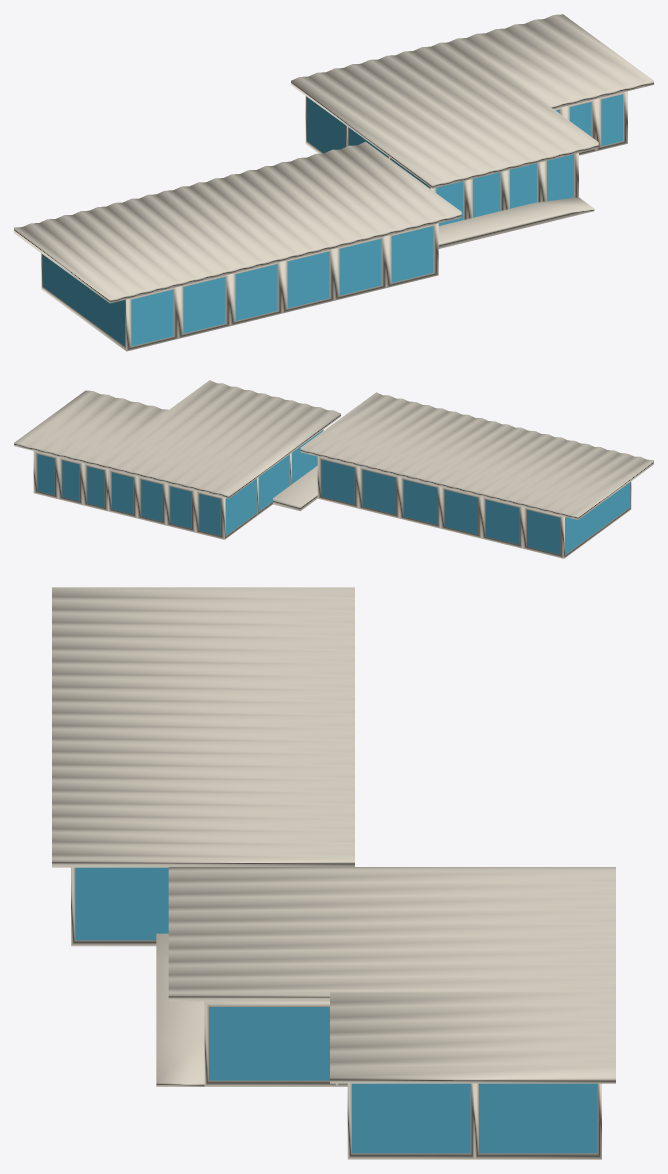
The model's file is 079_Office.glb.
3 renders of one model, top to bottom at view 1: azimuth 30°, elevation 25°; view 2: azimuth 150°, elevation 25°; view 3: azimuth 270°, elevation 25°, orthographic. The views are drawn at different scales.
Visible parts, largest first — view 1: 立方体019, 立方体019_1; view 2: 立方体019, 立方体019_1; view 3: 立方体019, 立方体019_1.
Boxes of the visible parts, x1=… form: 立方体019: x1=14, y1=14, x2=653, y2=351; 立方体019_1: x1=42, y1=94, x2=622, y2=346; 立方体019: x1=14, y1=380, x2=653, y2=558; 立方体019_1: x1=37, y1=430, x2=630, y2=554; 立方体019: x1=52, y1=587, x2=615, y2=1159; 立方体019_1: x1=75, y1=867, x2=597, y2=1153.
Bounding box in the file's own units: 13.21 × 1.28 × 6.47.
